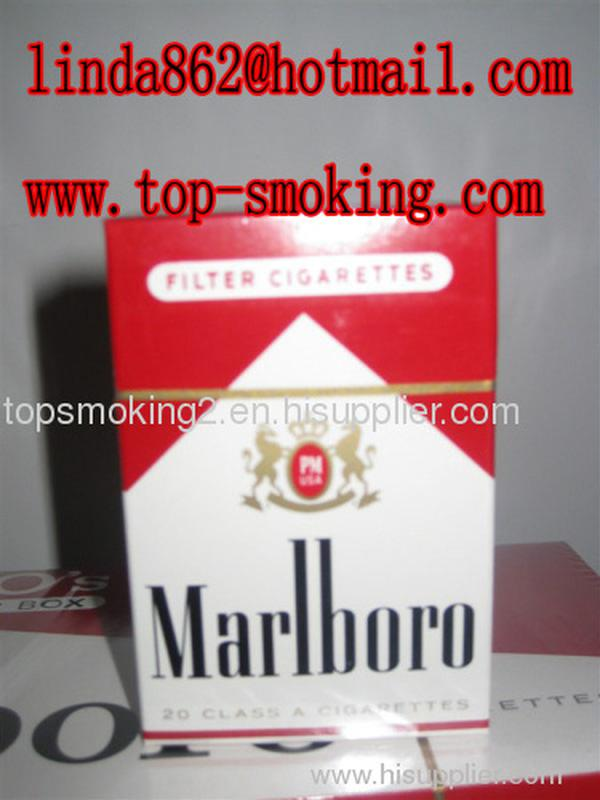marlboro_red: (138, 209, 490, 731)
